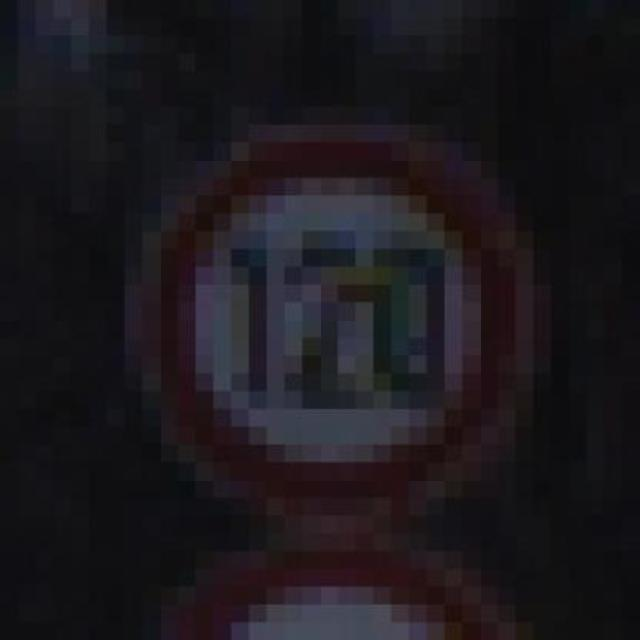forb_speed_over_120: (148, 134, 520, 517)
